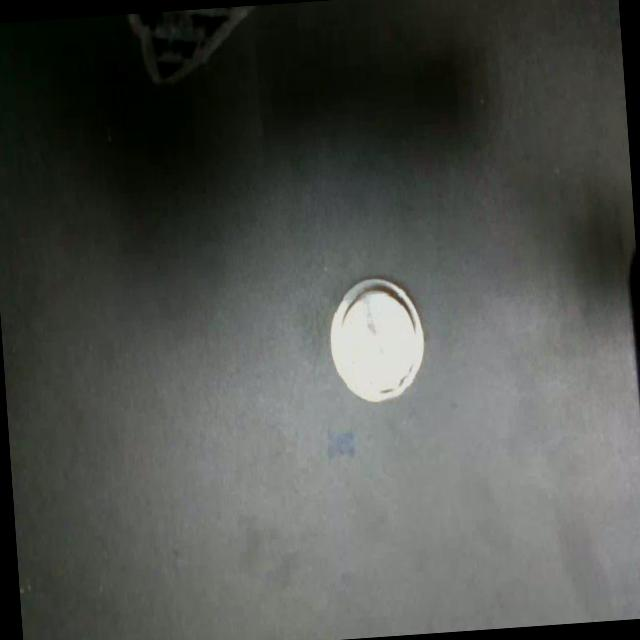sensor: (323, 273, 428, 406)
